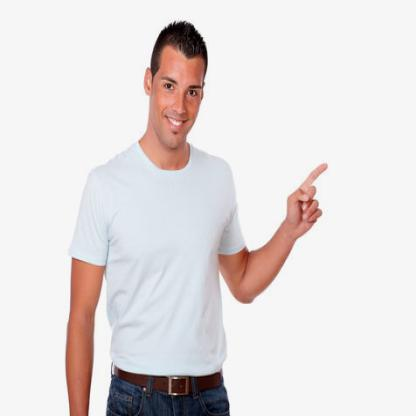Left: (277, 156, 334, 247)
